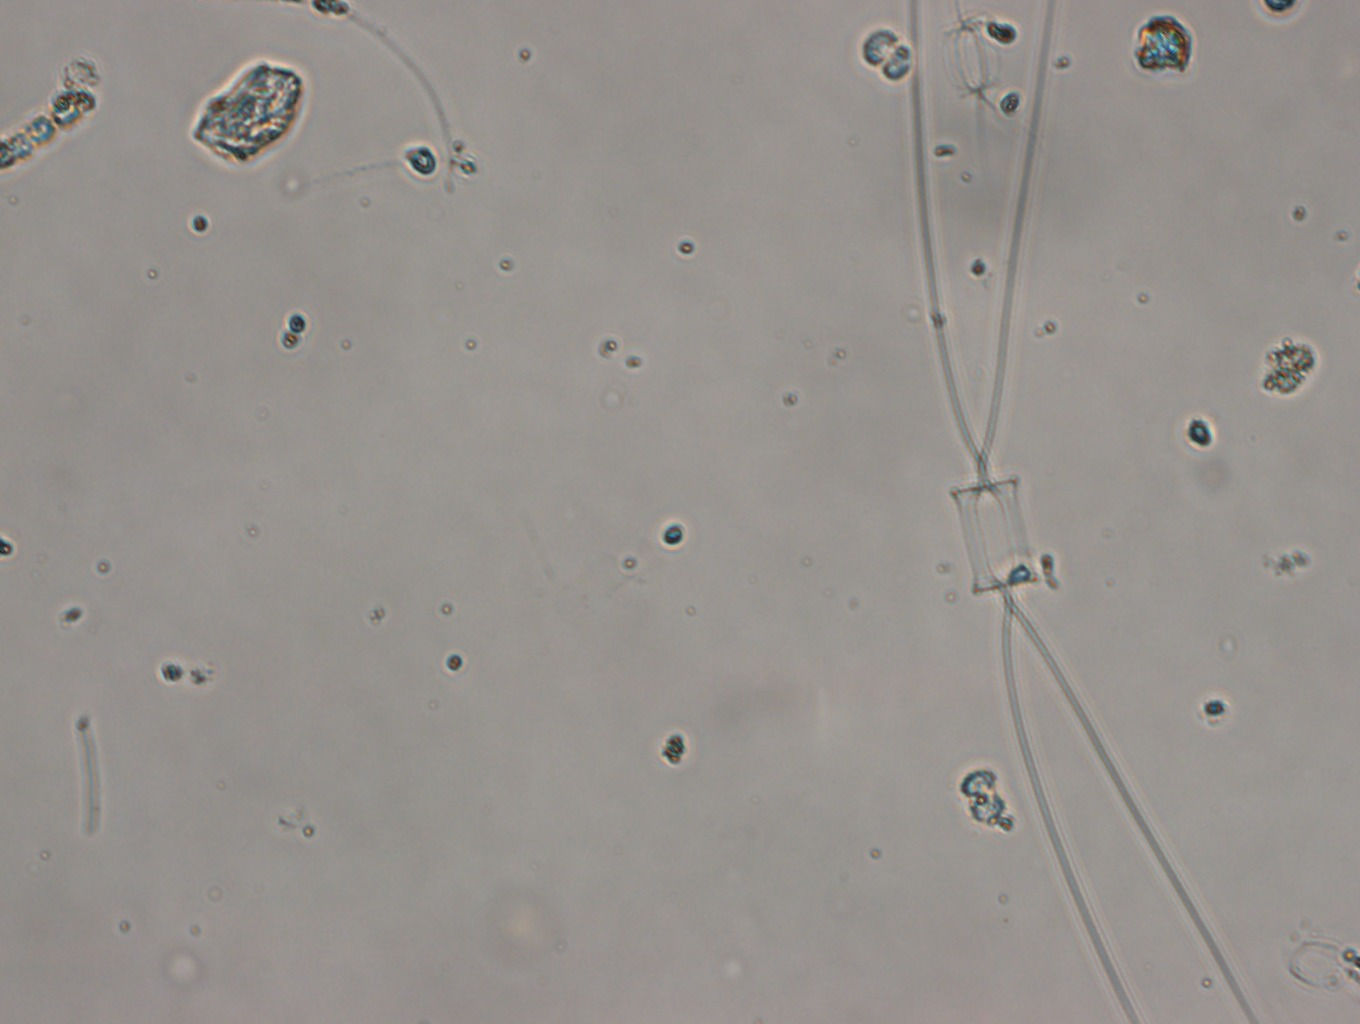chaetoceros: (902, 3, 1249, 1024)
